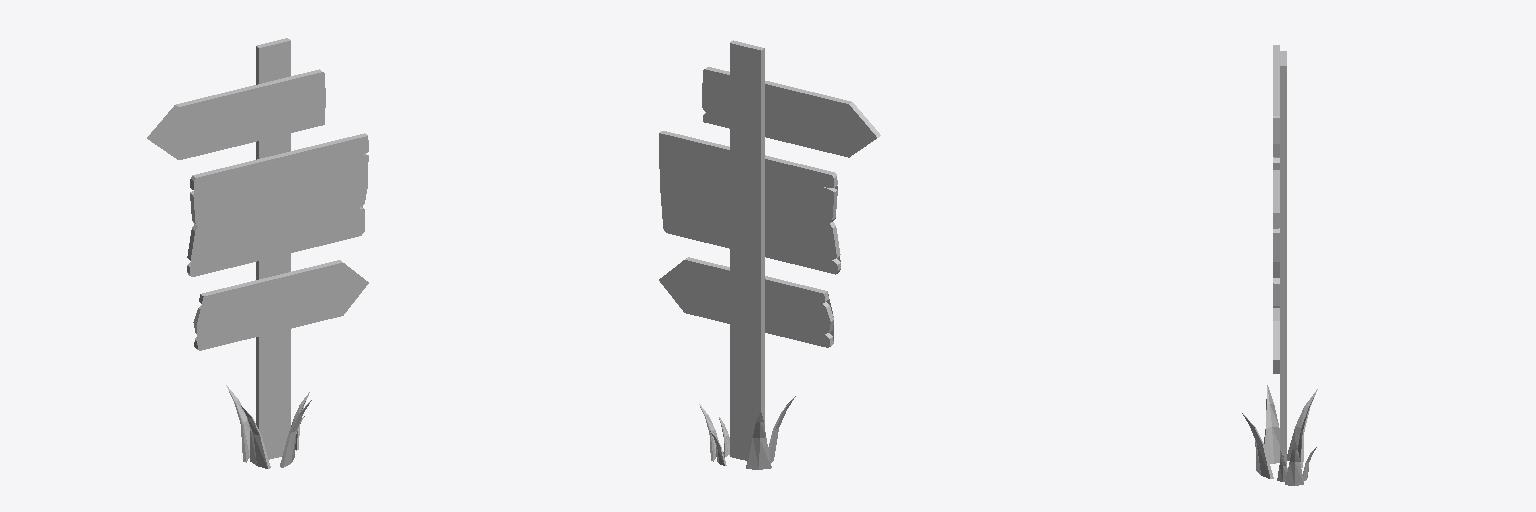
File: Sign5.obj
3 renders of one model, left to right at view 1: azimuth 30°, elevation 25°; view 2: azimuth 150°, elevation 25°; view 3: azimuth 270°, elevation 25°, orthographic.
Parts seen in each view (by area): view 1: Sign5; view 2: Sign5; view 3: Sign5.
Boxes of the visible parts, box(x1,y1,x2,y2) form: Sign5: box(147, 38, 368, 468); Sign5: box(659, 40, 880, 469); Sign5: box(1242, 45, 1317, 485).
Size of the model in its own units: 1.1 by 1.98 by 0.3337.